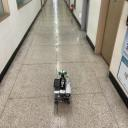cart: (54, 78, 71, 105)
